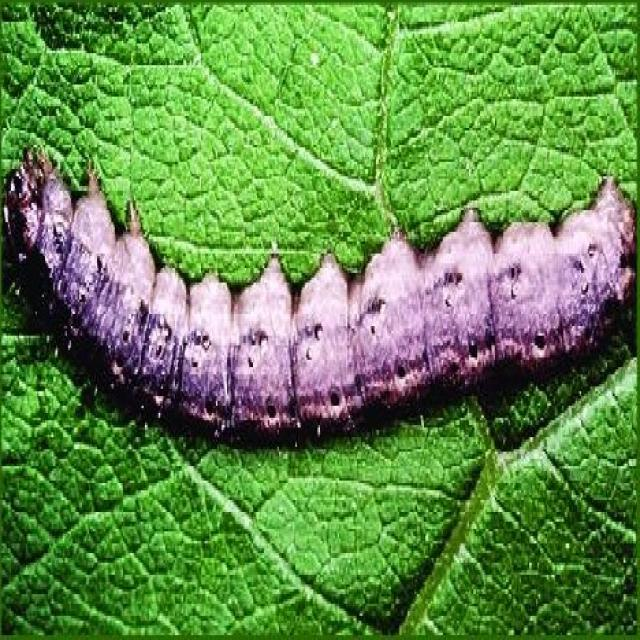black cutworm: (8, 151, 634, 441)
